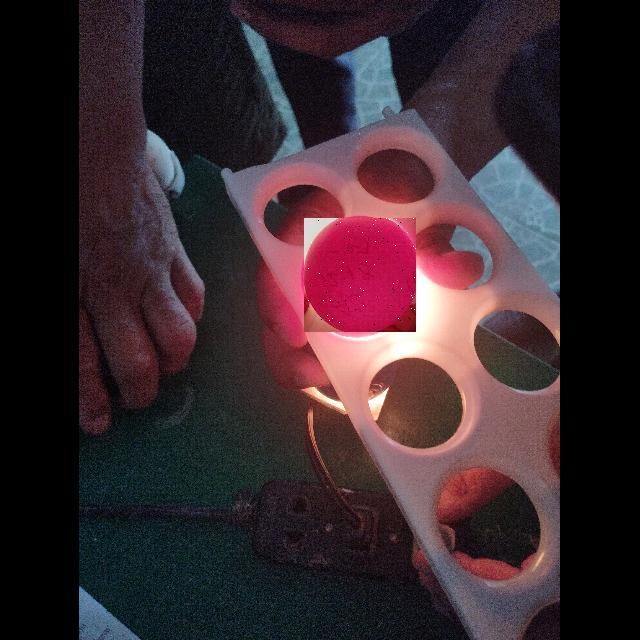Infertile: (304, 218, 416, 332)
